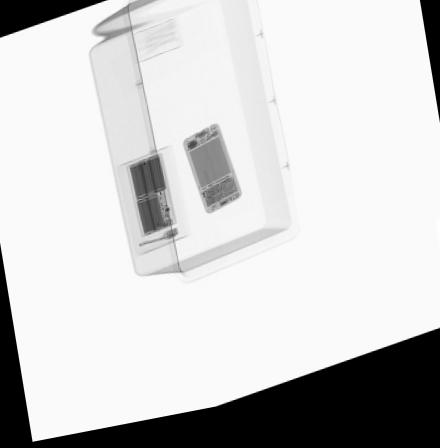Powerbank: (127, 155, 176, 242)
